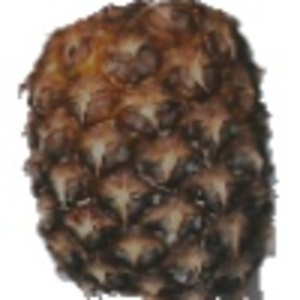abacaxi: (14, 4, 280, 296)
